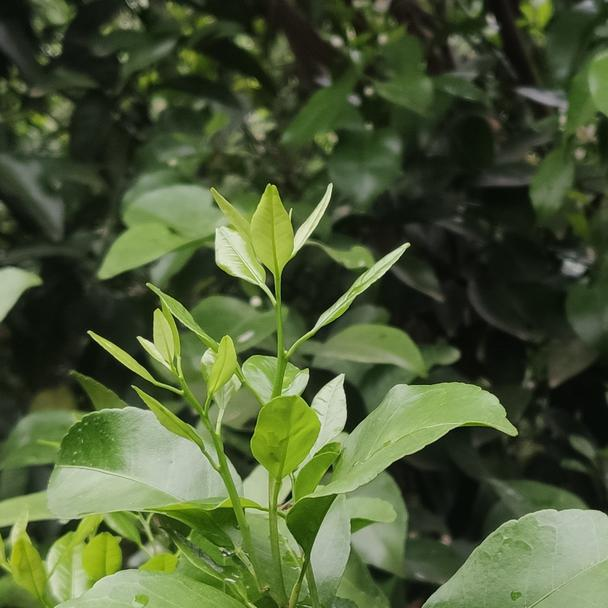shoot: (201, 189, 409, 472), (121, 326, 249, 498)
